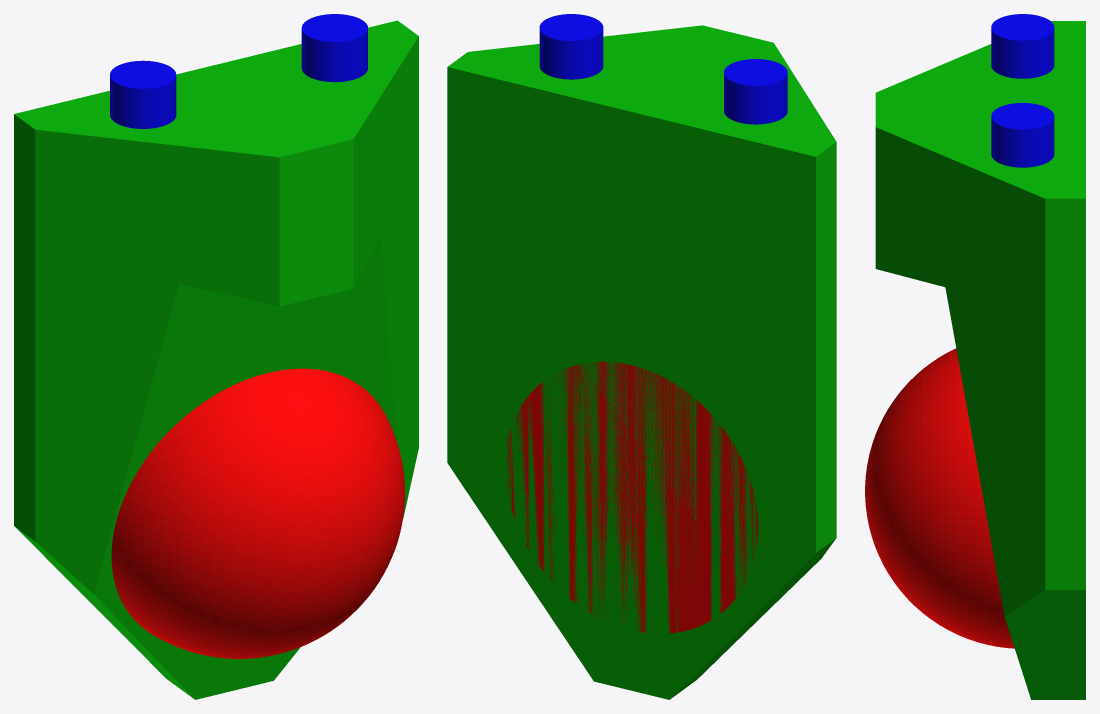
File: Enemy.glb
3 views of the same model, side by side, from view 1: azimuth 30°, elevation 25°; view 2: azimuth 150°, elevation 25°; view 3: azimuth 270°, elevation 25° (orthographic). The views are drawn at different scales.
Size of the model in its own units: 200 by 320 by 105.
